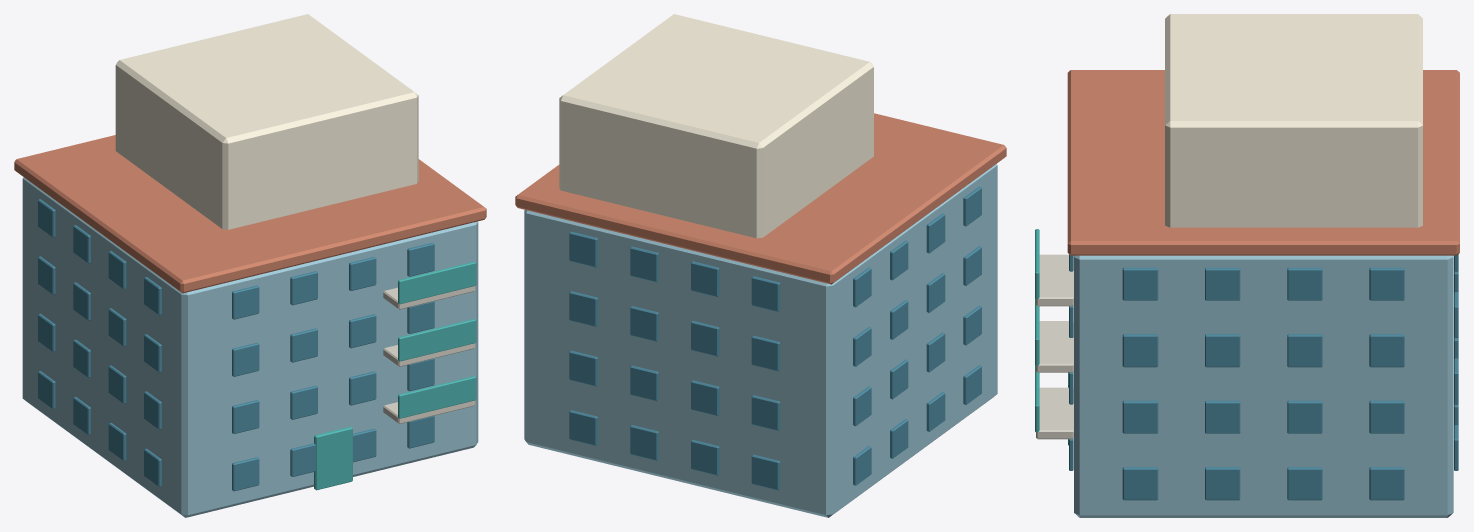
The model's file is RES_MID_2x2_004.glb.
3 renders of one model, left to right at view 1: azimuth 30°, elevation 25°; view 2: azimuth 150°, elevation 25°; view 3: azimuth 270°, elevation 25°, orthographic. The views are drawn at different scales.
Parts seen in each view (by area): view 1: RES_MID_2x2_004_Visual; view 2: RES_MID_2x2_004_Visual; view 3: RES_MID_2x2_004_Visual.
Boxes of the visible parts, x1,y1,x2,y2 form: RES_MID_2x2_004_Visual: (14, 14, 486, 517); RES_MID_2x2_004_Visual: (515, 14, 1006, 517); RES_MID_2x2_004_Visual: (1035, 14, 1459, 517).
Size of what is drawn, in the model's own units: 3.25 by 3.36 by 3.36.
